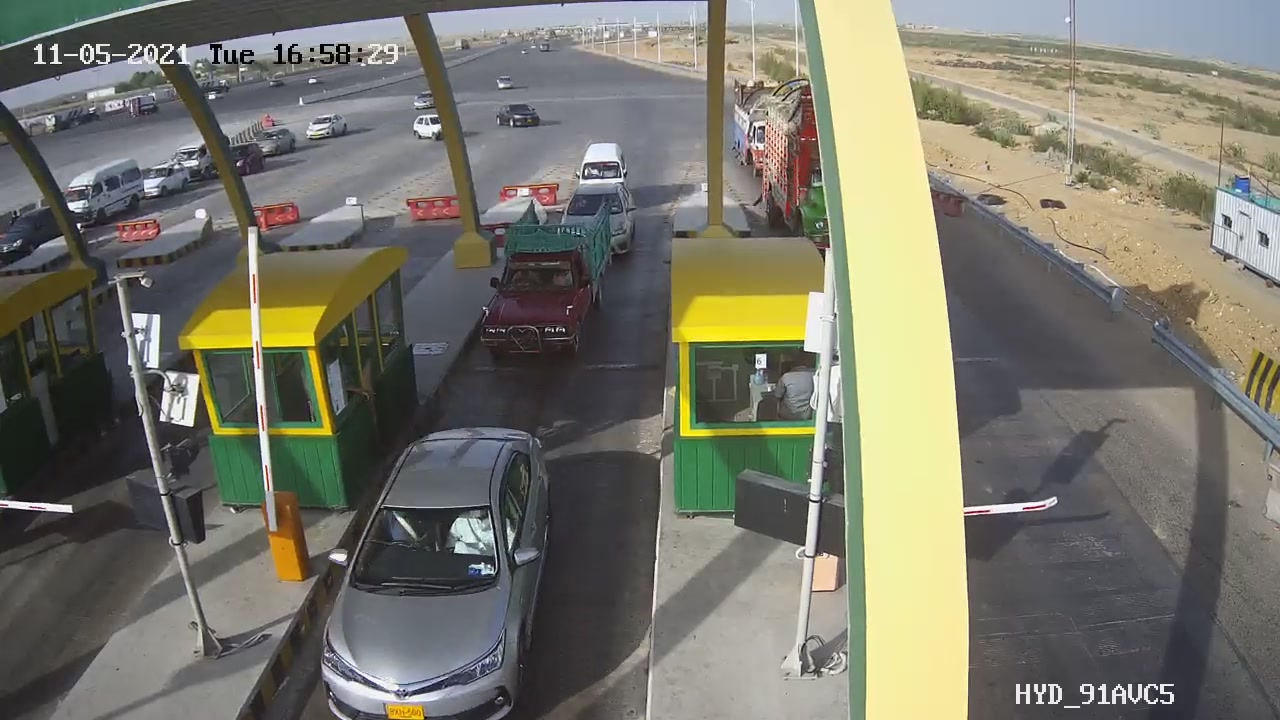F1: (470, 194, 632, 369)
